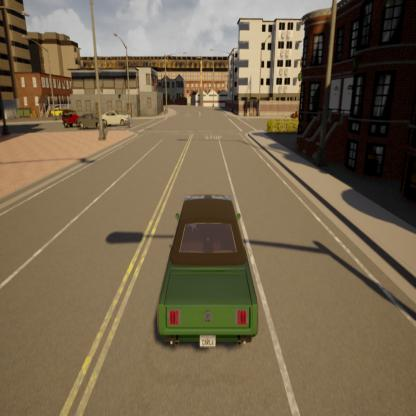Cars: (146, 178, 262, 356), (100, 106, 133, 128), (76, 109, 104, 130), (62, 105, 83, 130), (50, 103, 70, 117)
Pedestrian: (124, 102, 133, 130)
